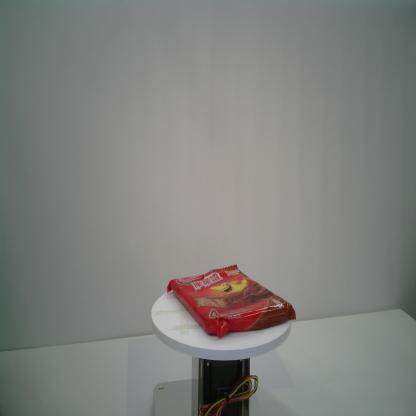Dessert: (166, 264, 296, 340)
